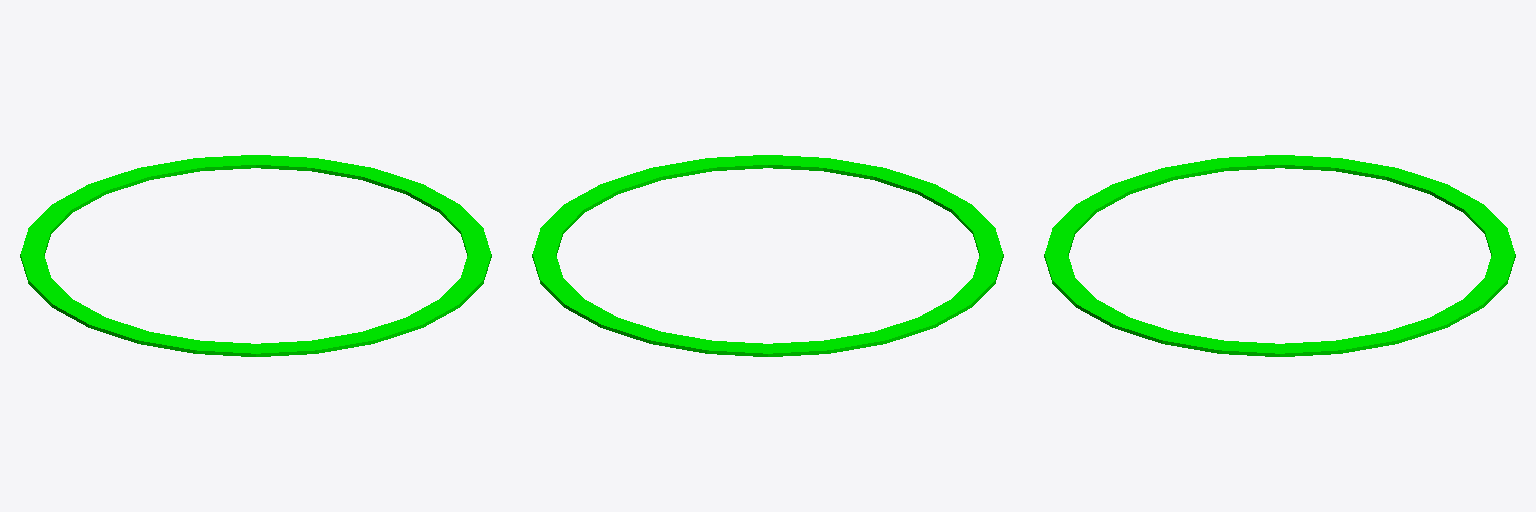
URDF robot description (zone.urdf):
<?xml version="1.0" ?>
<robot name="zone.urdf">
  <link name="baseLink">
    <contact>
      <lateral_friction value="1.0"/>
      <inertia_scaling value="3.0"/>
    </contact>
    <inertial>
      <origin rpy="0 0 0" xyz="-0.01 0 0.02"/>
       <mass value=".1"/>
       <inertia ixx="1" ixy="0" ixz="0" iyy="1" iyz="0" izz="1"/>
    </inertial>
    <visual>
      <origin rpy="0 0 0" xyz="0 0 0"/>
      <geometry>
				<mesh filename="zone_ring.obj" scale="0.006 0.006 0.00005"/>
      </geometry>
      <material name="green">
        <color rgba="0 1 0 1"/>
      </material>
    </visual>
  </link>
</robot>

--- What the picture shows (computed from the rendered views, not written in the file) ---
Views: 3 orthographic renders of the robot side by side, from view 1: azimuth 30°, elevation 25°; view 2: azimuth 150°, elevation 25°; view 3: azimuth 270°, elevation 25°.
Robot: zone.urdf — 1 links, 0 joints (none); root link baseLink; default pose: every joint at zero.
Links seen in each view (by area): view 1: baseLink; view 2: baseLink; view 3: baseLink.
Link boxes in pixels (box(x1,y1,x2,y2)): baseLink: box(20, 155, 491, 356); baseLink: box(532, 155, 1003, 356); baseLink: box(1044, 155, 1515, 356).
Bounding box of the posed robot: 0.12 × 0.12 × 0.001 m (x, y, z).
Meshes: 1 distinct files referenced, 1 mesh visuals loaded (1 OBJ).